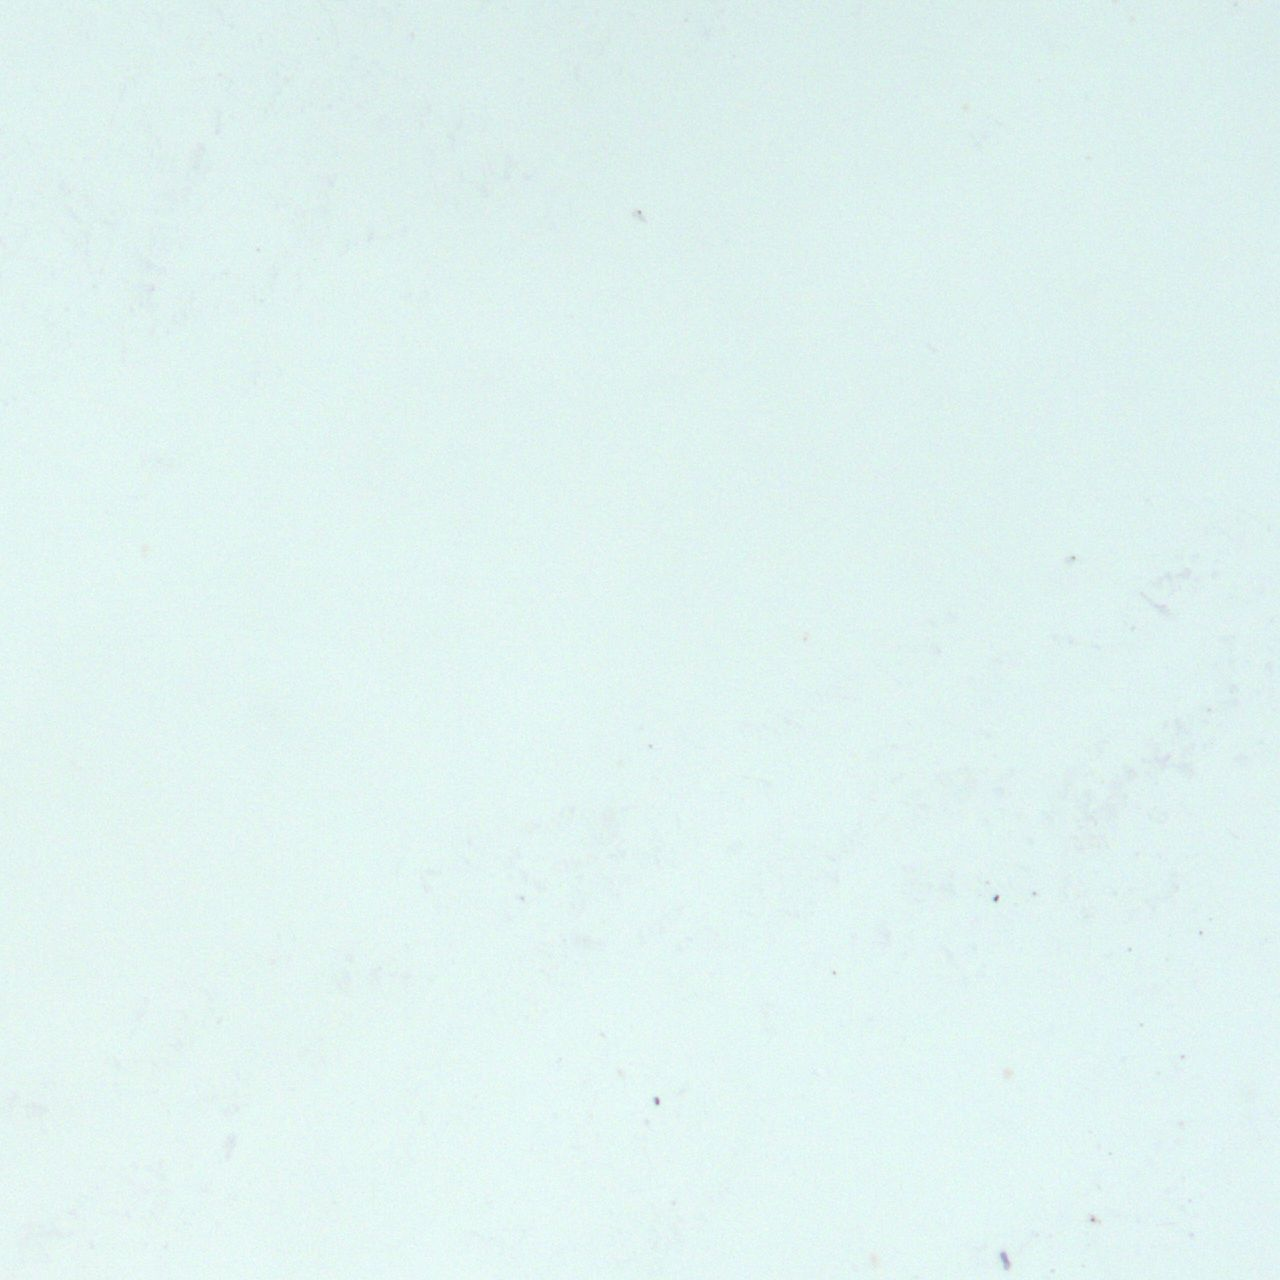dust: (1001, 1065, 1014, 1081), (1089, 1214, 1097, 1223)
